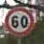limite 60: (4, 5, 34, 37)
